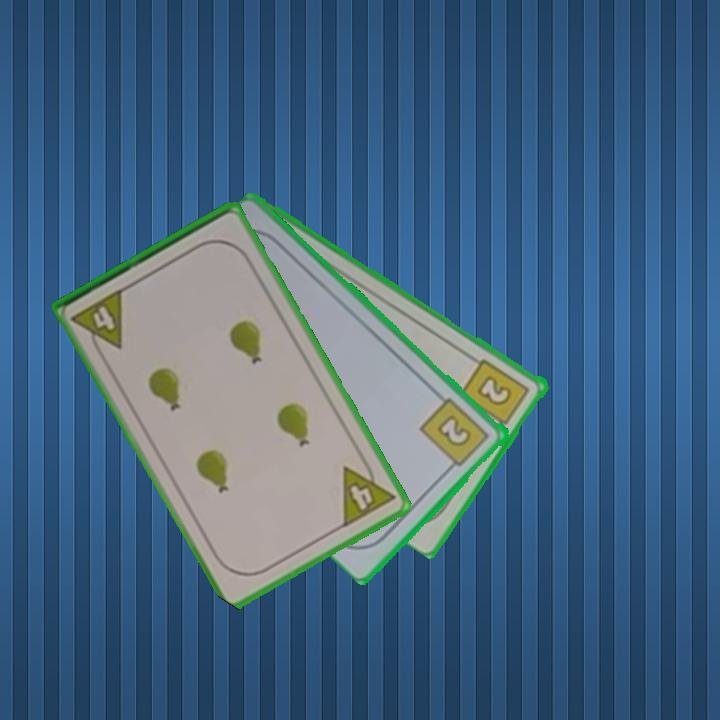2b: (417, 394, 493, 474), (457, 355, 533, 434)
4p: (339, 453, 399, 531), (68, 285, 127, 360)
